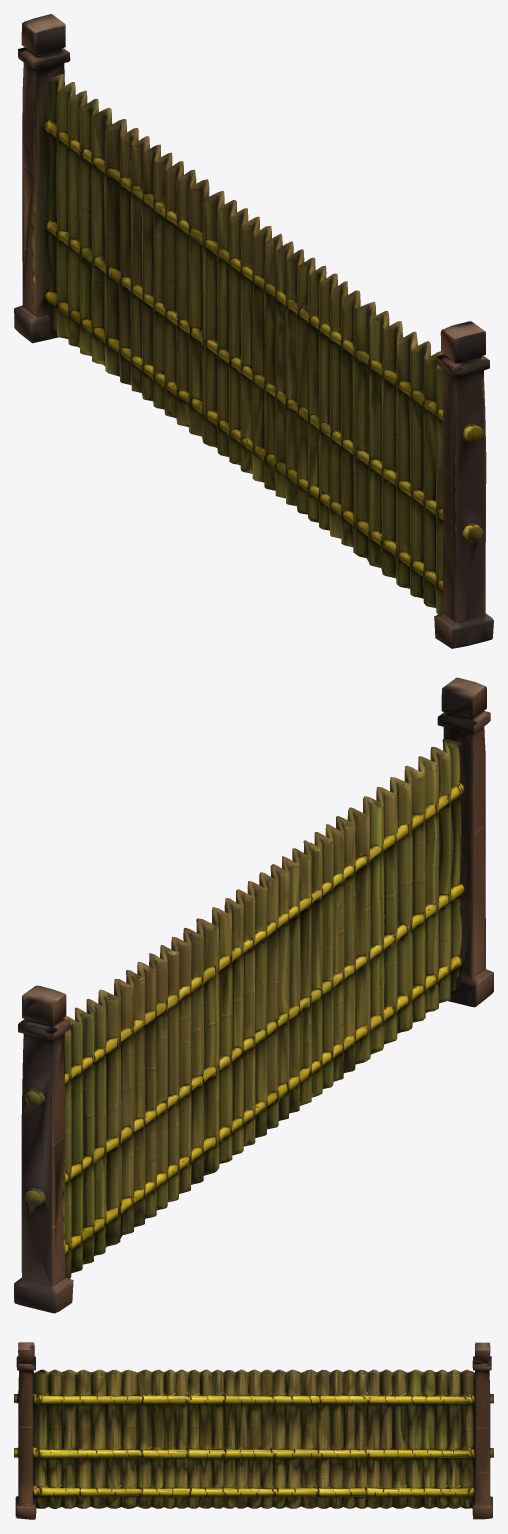
Rendered from bambooFence.glb.
3 views of the same model, one above another, from view 1: azimuth 30°, elevation 25°; view 2: azimuth 150°, elevation 25°; view 3: azimuth 270°, elevation 25° (orthographic). The views are drawn at different scales.
Parts seen in each view (by area): view 1: node_0; view 2: node_0; view 3: node_0.
Boxes of the visible parts, box(x1,y1,x2,y2) form: node_0: box(14, 14, 493, 648); node_0: box(14, 677, 493, 1313); node_0: box(14, 1342, 493, 1519).
Bounding box in the file's own units: 0.0631 × 0.4363 × 1.12.
1 material, 1 textured.
